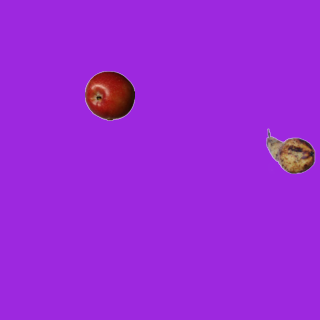Apple Braeburn: (84, 70, 134, 120)
Pear Abate: (265, 126, 315, 176)
